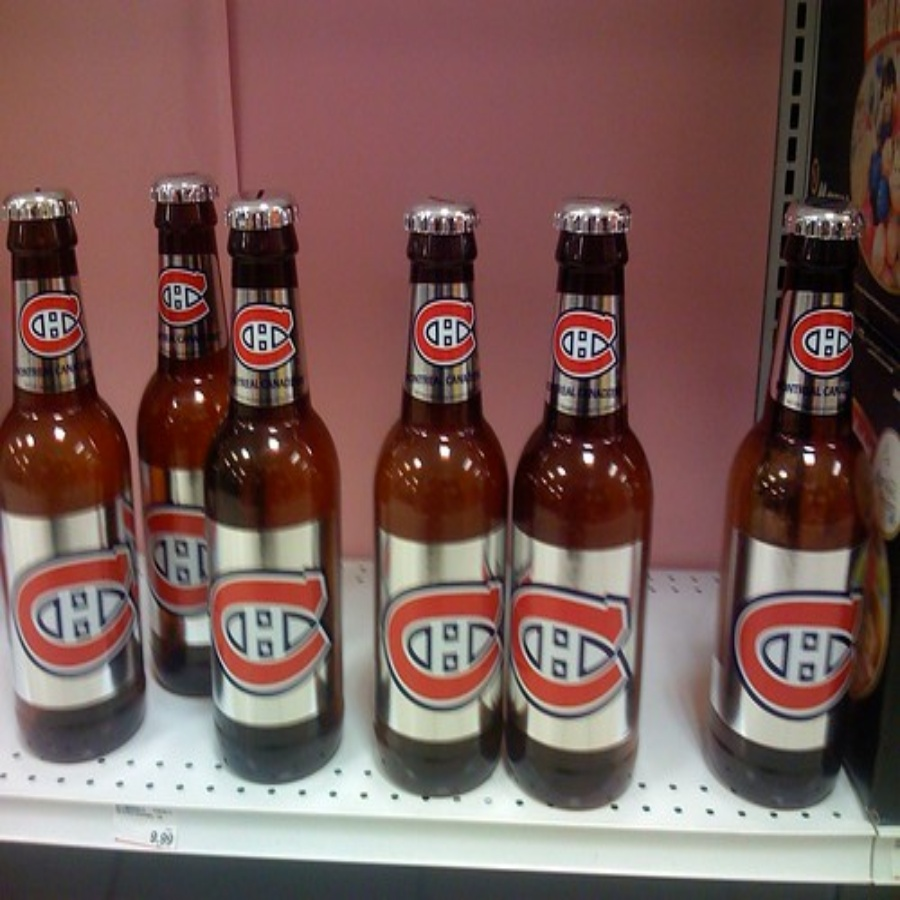beer: (512, 204, 664, 802), (216, 191, 360, 795), (722, 183, 852, 832), (1, 200, 141, 761), (376, 198, 497, 814)
